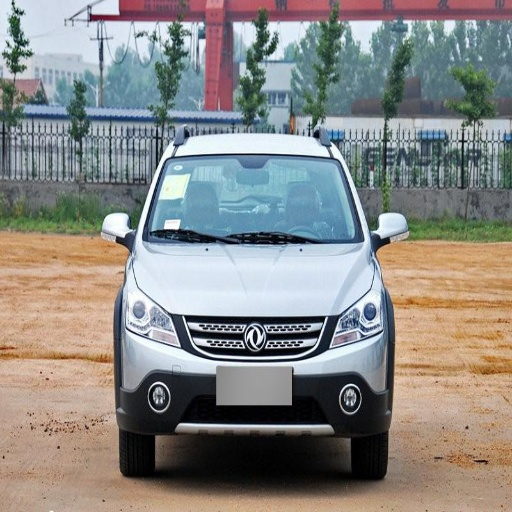front_bumper: (119, 314, 390, 437)
front_right_light: (122, 288, 178, 346)
hood: (133, 242, 377, 318)
